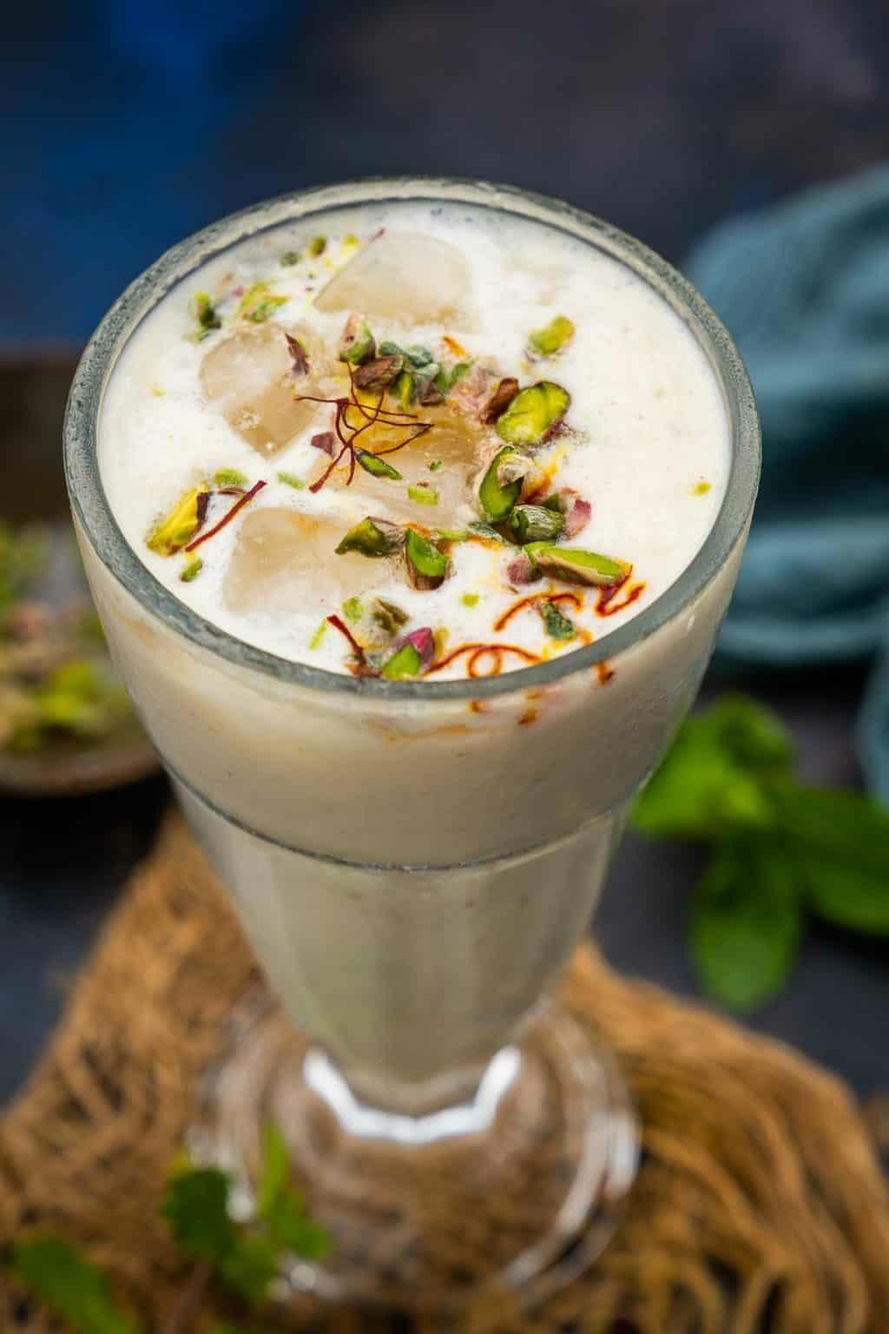Lassi: (78, 202, 731, 1080)
